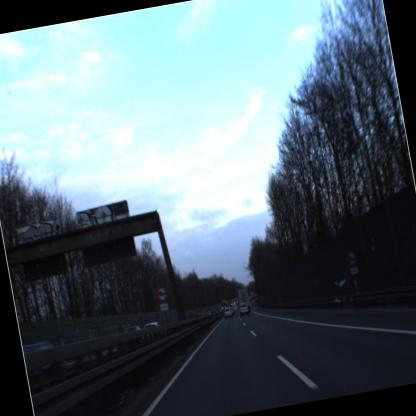prohibitory: (154, 282, 170, 306), (344, 247, 359, 268)
